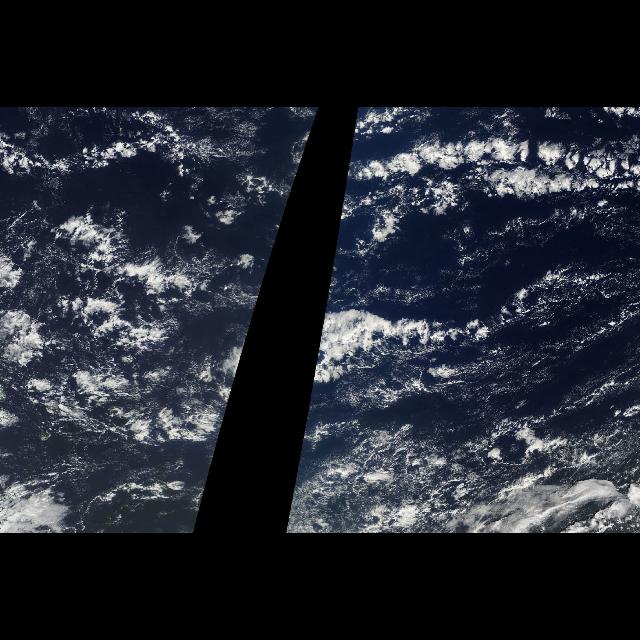Fish: (334, 108, 640, 246), (302, 107, 320, 159)
Flower: (365, 131, 617, 235)
Gravel: (433, 264, 627, 454)
